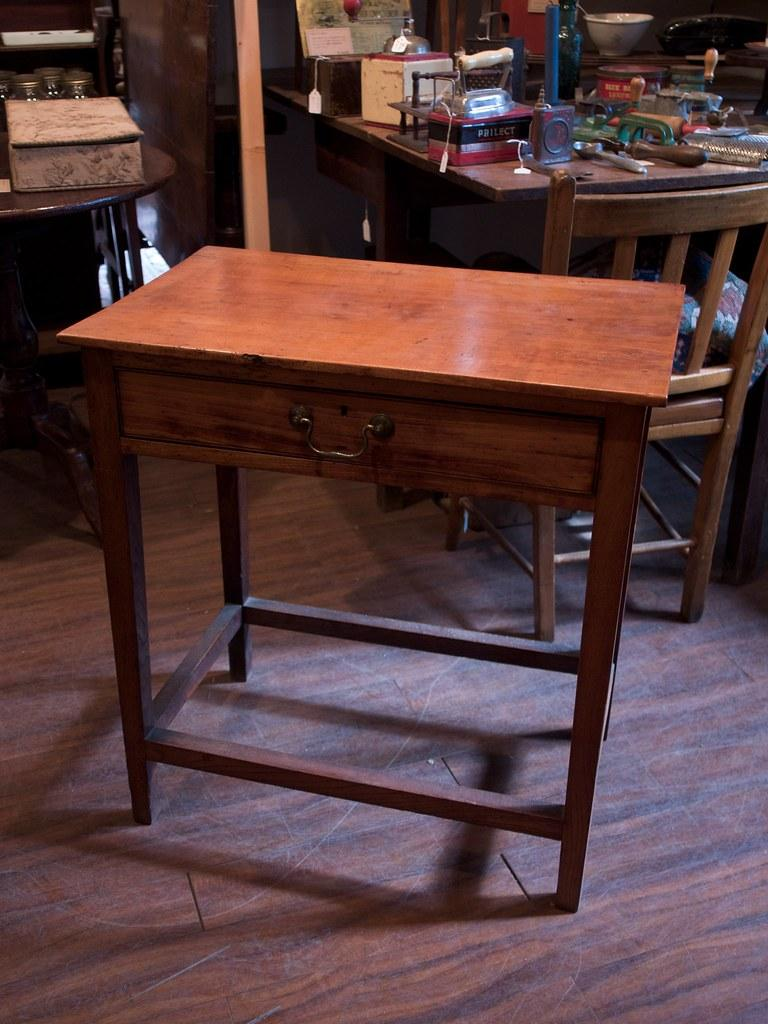table: (42, 231, 707, 940)
